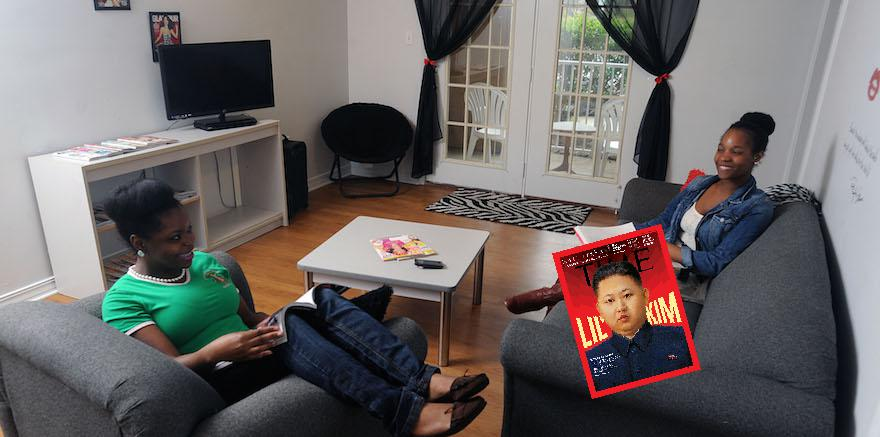times: (548, 221, 696, 399)
